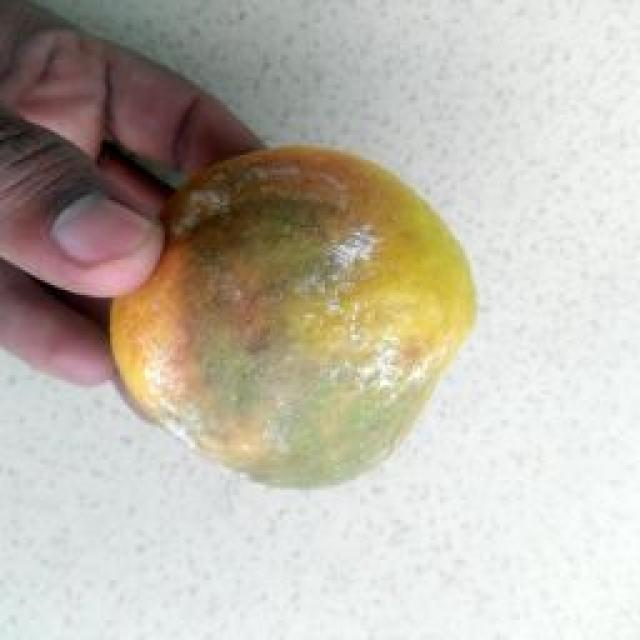Bad_Orange: (110, 146, 475, 486)
